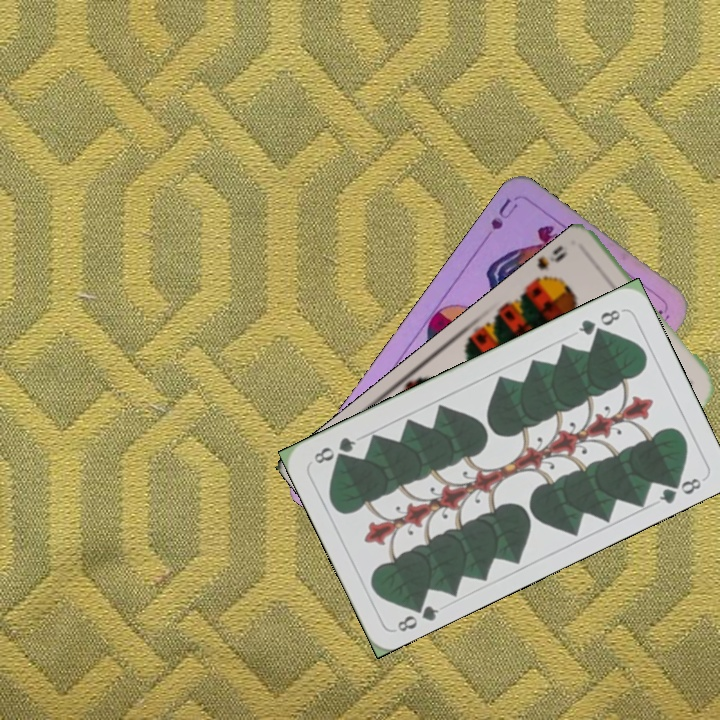G8: (393, 596, 442, 635), (574, 305, 626, 338)
S9: (530, 243, 570, 292)
SU: (477, 194, 521, 247)
